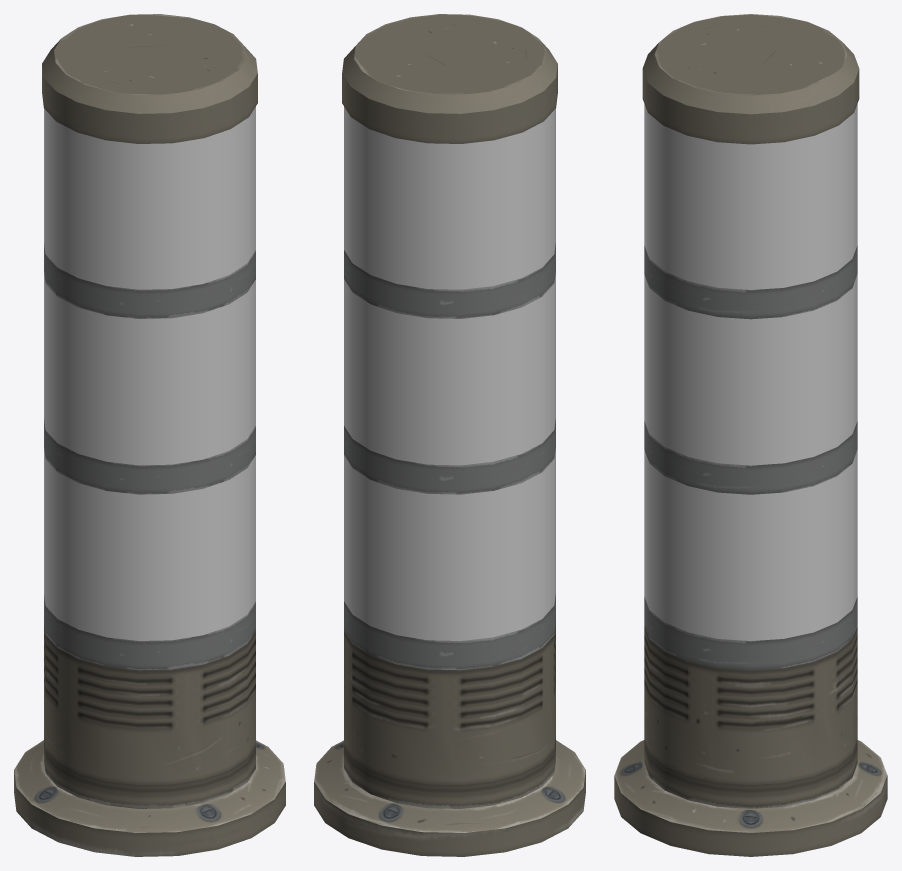
Rendered from StackLight.glb.
3 renders of one model, left to right at view 1: azimuth 30°, elevation 25°; view 2: azimuth 150°, elevation 25°; view 3: azimuth 270°, elevation 25°, orthographic.
Visible parts, largest first — view 1: StackLight; view 2: StackLight; view 3: StackLight.
Part boxes in pixels (x1,y1,x2,y2): StackLight: [14, 14, 285, 856]; StackLight: [314, 14, 585, 856]; StackLight: [614, 14, 887, 856].
Size of the model in its own units: 0.0828 by 0.2491 by 0.0828.
Materials: 2 (1 with a texture image).
